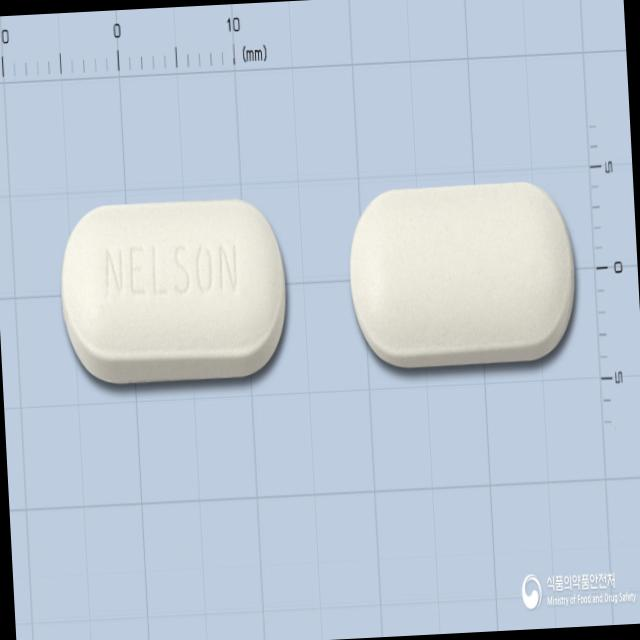Ciproctan: (55, 187, 299, 396)
